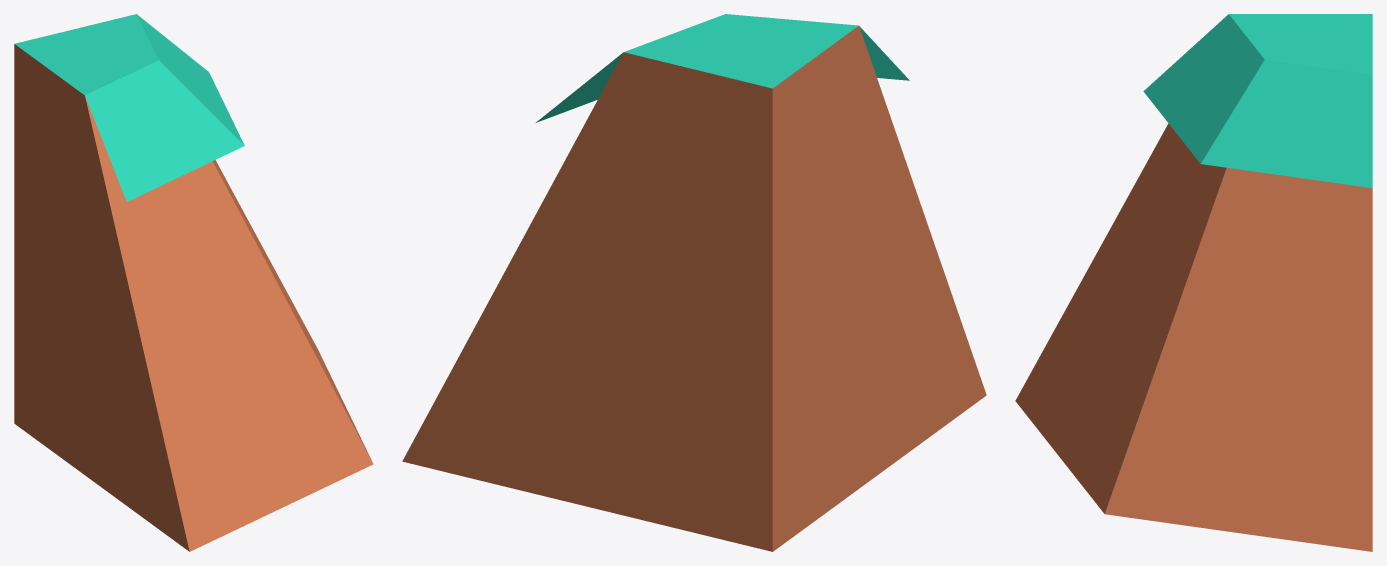
Rendered from cliff_halfCorner_rock.dae.
3 views of the same model, side by side, from view 1: azimuth 30°, elevation 25°; view 2: azimuth 150°, elevation 25°; view 3: azimuth 270°, elevation 25° (orthographic). The views are drawn at different scales.
Visible parts, largest first — view 1: cliff_halfCorner_rock; view 2: cliff_halfCorner_rock; view 3: cliff_halfCorner_rock.
Part boxes in pixels (x1=…): cliff_halfCorner_rock: x1=14, y1=14, x2=373, y2=551; cliff_halfCorner_rock: x1=402, y1=14, x2=986, y2=551; cliff_halfCorner_rock: x1=1015, y1=14, x2=1372, y2=551.
Bounding box in the file's own units: 0.4185 × 0.5 × 0.4185.
